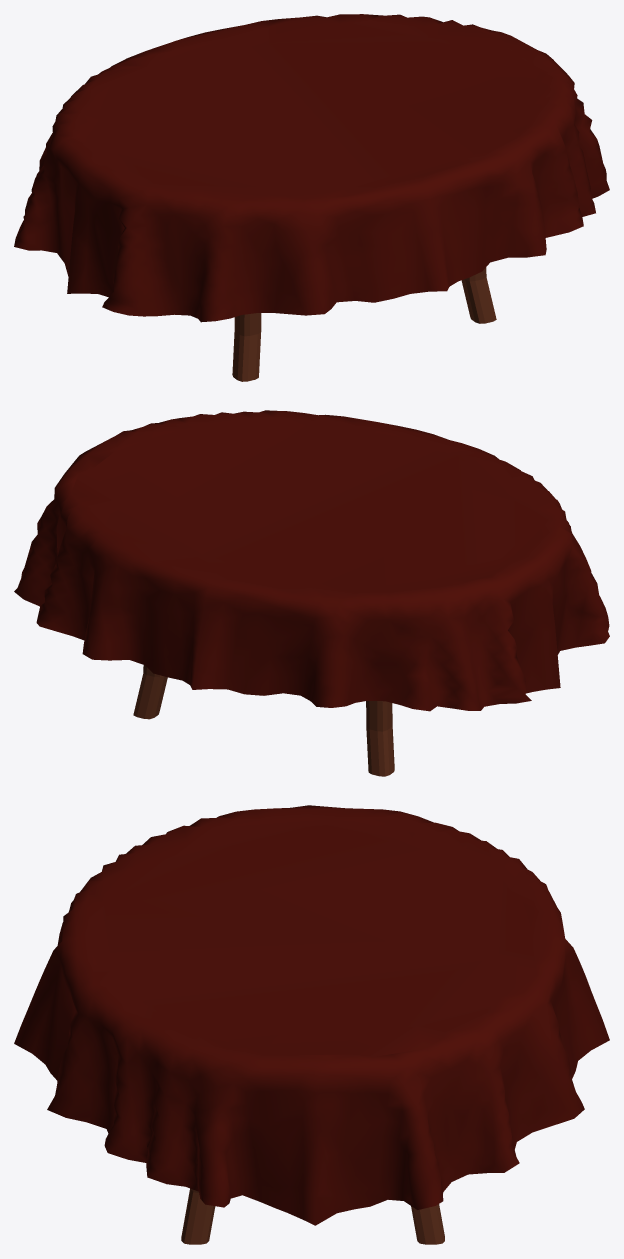
File: Маленький столик.fbx
3 renders of one model, top to bottom at view 1: azimuth 30°, elevation 25°; view 2: azimuth 150°, elevation 25°; view 3: azimuth 270°, elevation 25°, orthographic. The views are drawn at different scales.
Parts seen in each view (by area): view 1: Circle.002, Circle; view 2: Circle.002, Circle; view 3: Circle.002, Circle.
Part boxes in pixels (x1=…): Circle.002: x1=14, y1=14, x2=609, y2=322; Circle: x1=232, y1=267, x2=496, y2=381; Circle.002: x1=14, y1=410, x2=609, y2=711; Circle: x1=133, y1=665, x2=394, y2=776; Circle.002: x1=14, y1=805, x2=609, y2=1225; Circle: x1=181, y1=1188, x2=444, y2=1244.
Bounding box in the file's own units: 226 × 86.37 × 195.
